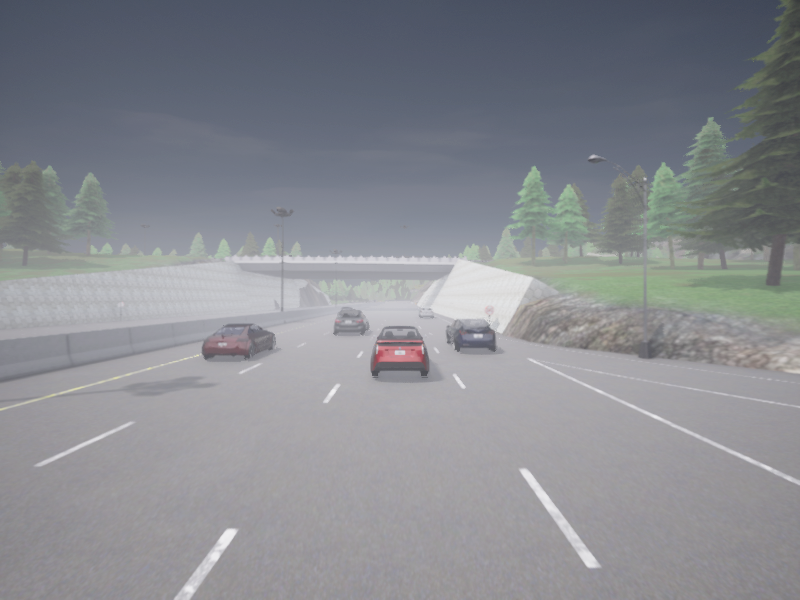vehicle: (371, 326, 428, 376), (202, 323, 275, 358), (446, 319, 495, 350), (334, 310, 368, 333), (418, 307, 432, 317), (338, 307, 352, 314)
